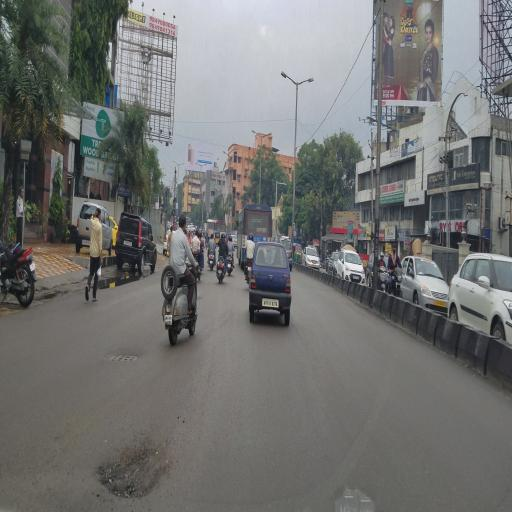street_light_0: (294, 62, 322, 92), (272, 64, 300, 94)
